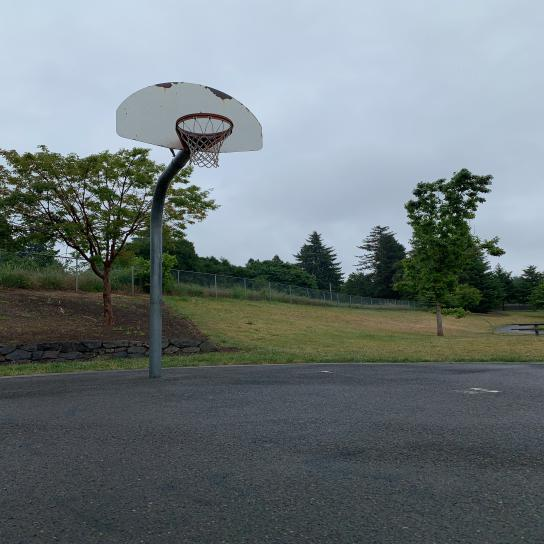basketball-hoop: (173, 112, 236, 168)
